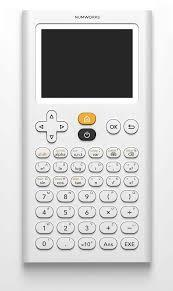Calculator: (10, 5, 164, 275)
